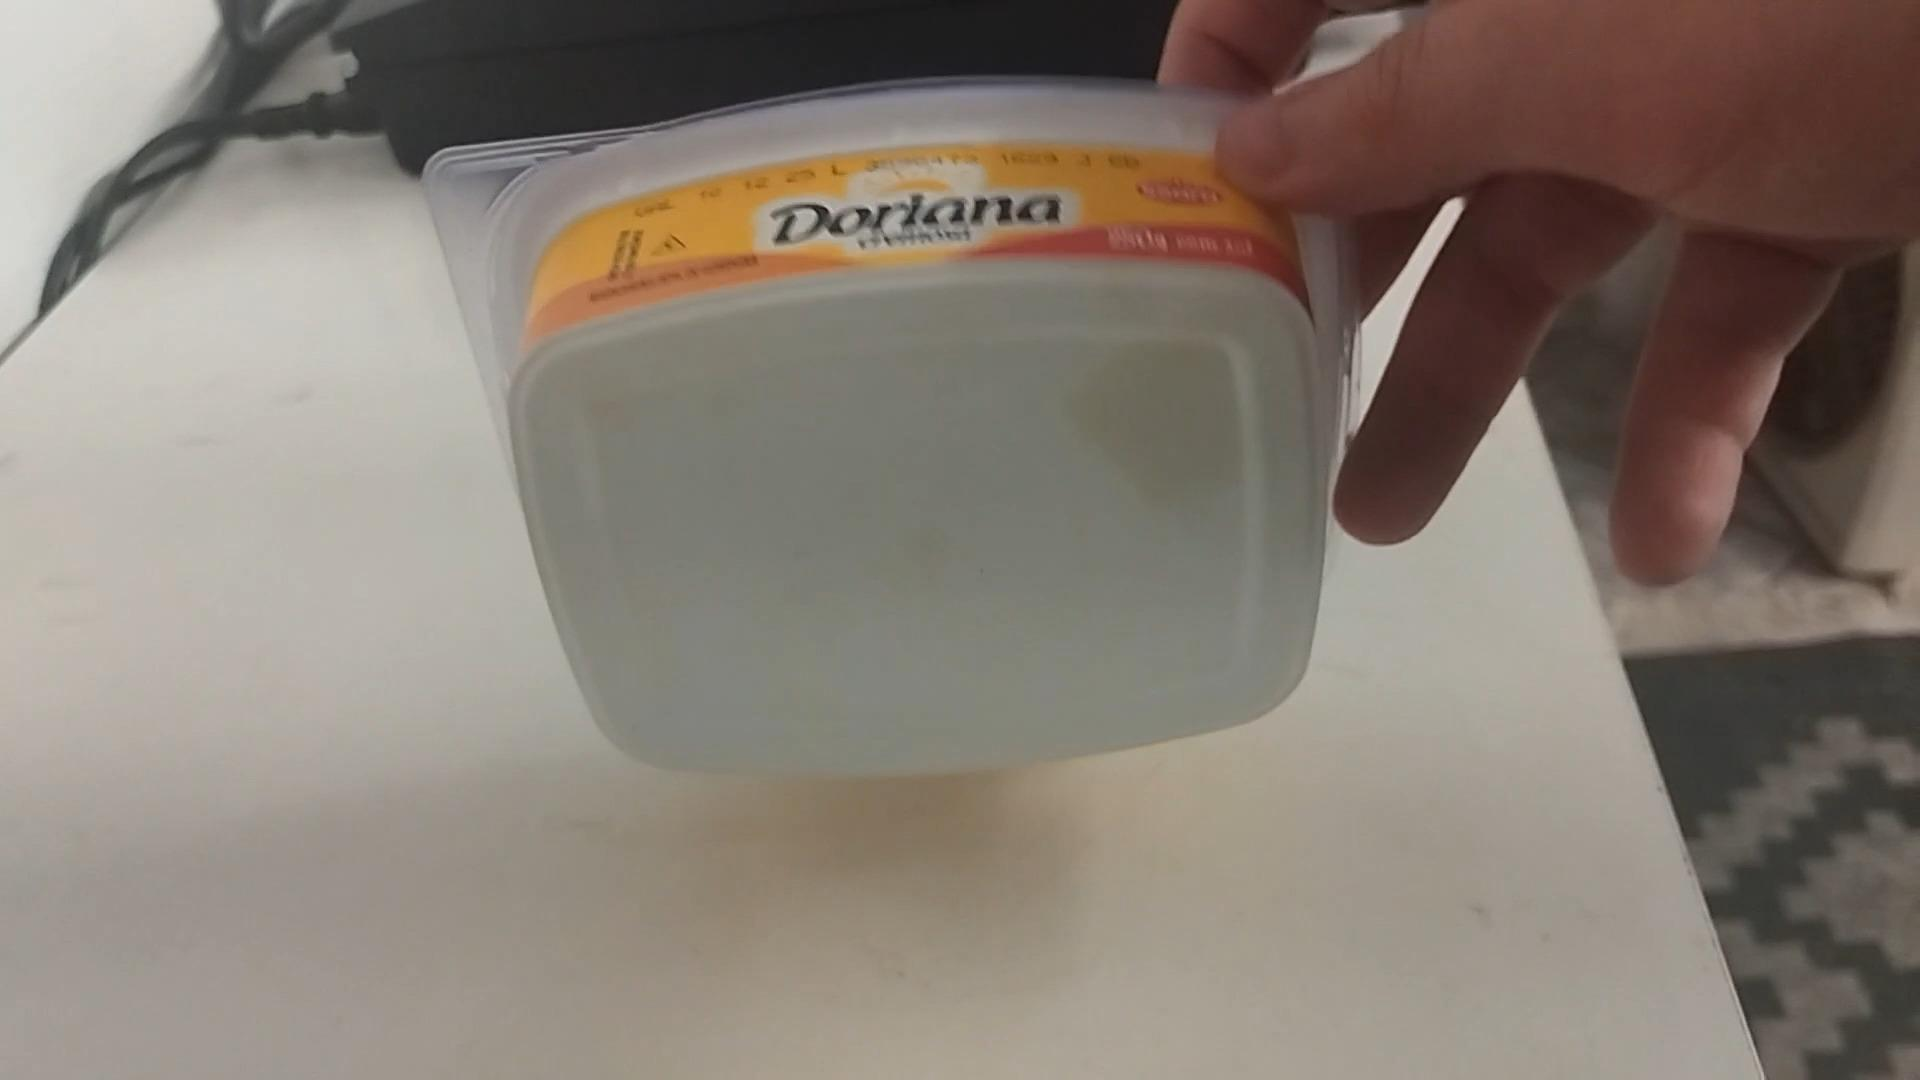butter: (433, 79, 1354, 782)
